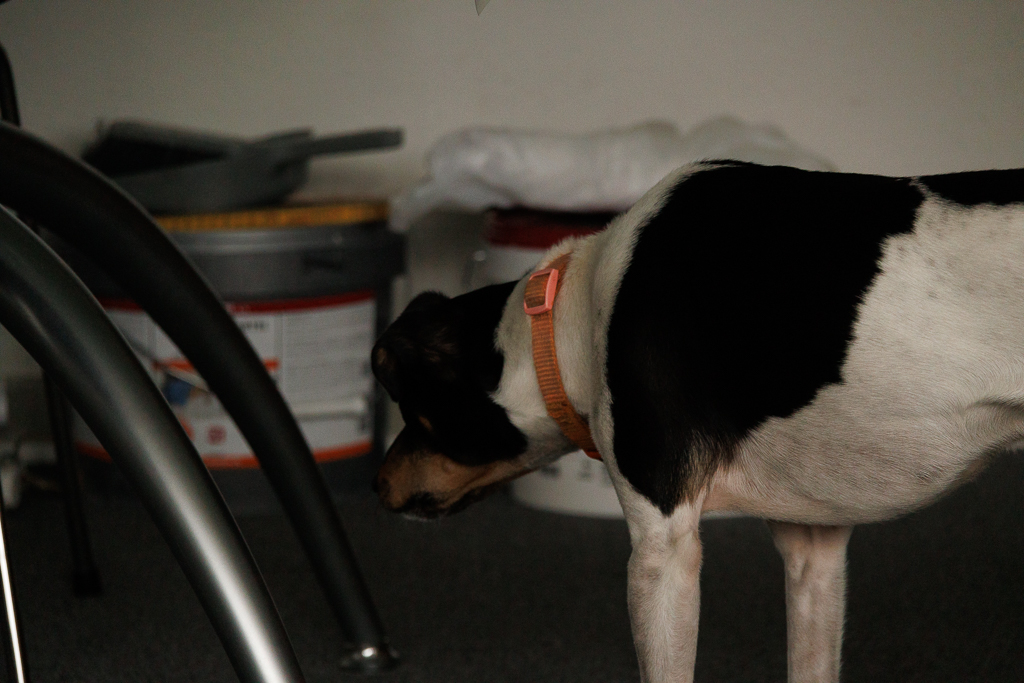Dog: (354, 145, 1024, 683)
